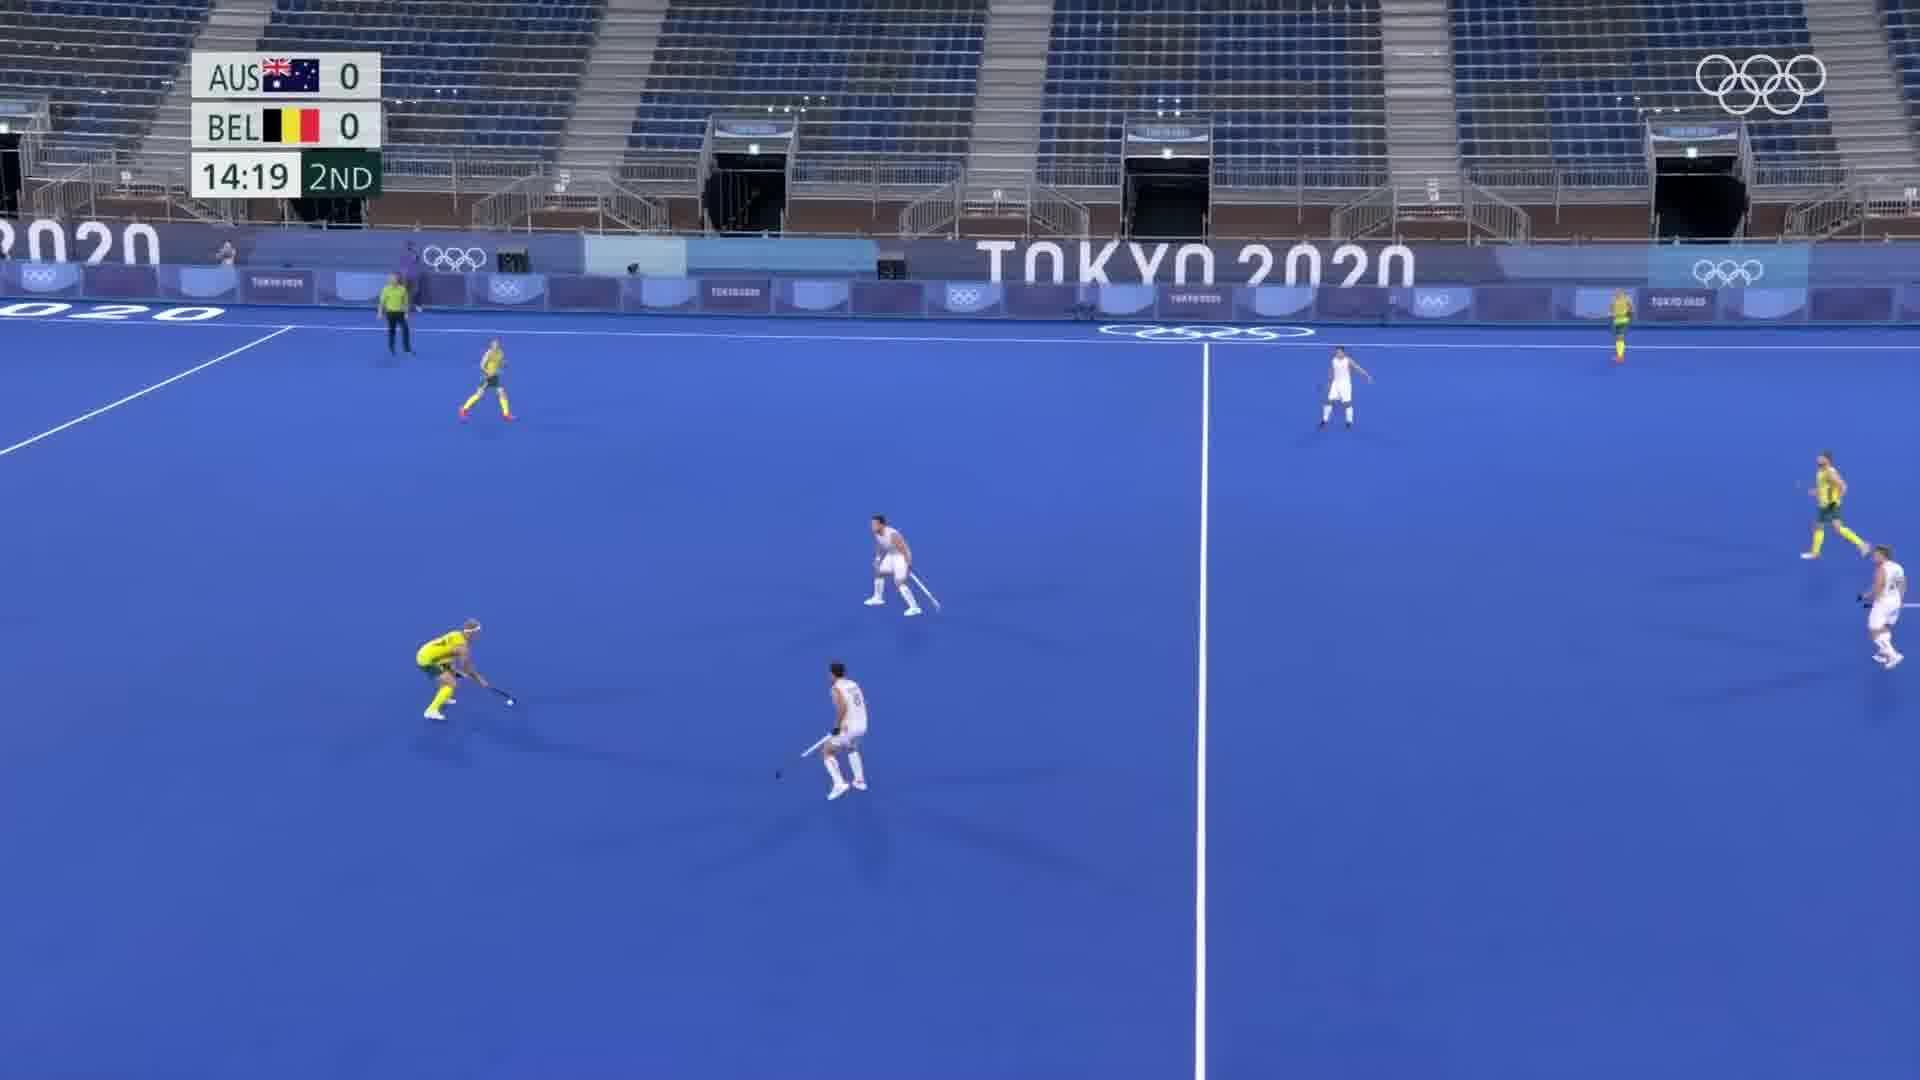ball: (502, 696, 521, 713)
